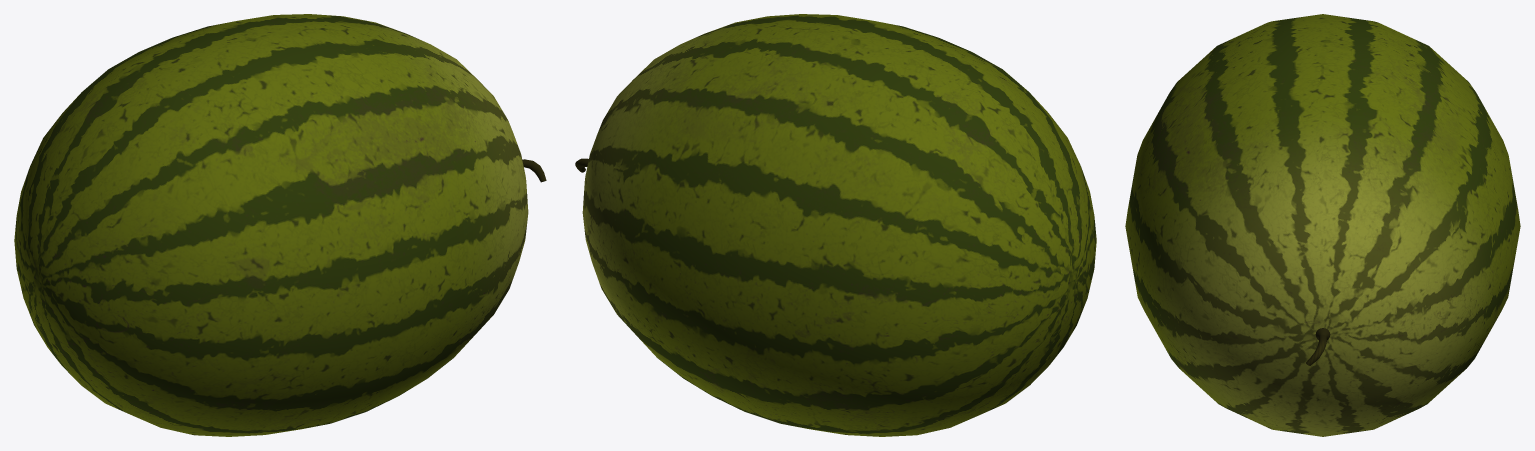
File: smash_watermelon_01.glb
3 renders of one model, left to right at view 1: azimuth 30°, elevation 25°; view 2: azimuth 150°, elevation 25°; view 3: azimuth 270°, elevation 25°, orthographic. The views are drawn at different scales.
Parts seen in each view (by area): view 1: Watermelon; view 2: Watermelon; view 3: Watermelon.
Boxes of the visible parts, left/top/right/bottom form: Watermelon: left=14, top=14, right=546, bottom=436; Watermelon: left=575, top=14, right=1096, bottom=436; Watermelon: left=1125, top=14, right=1520, bottom=436.
Size of the model in its own units: 0.3938 by 0.2853 by 0.2854.
Materials: 1 (1 with a texture image).
